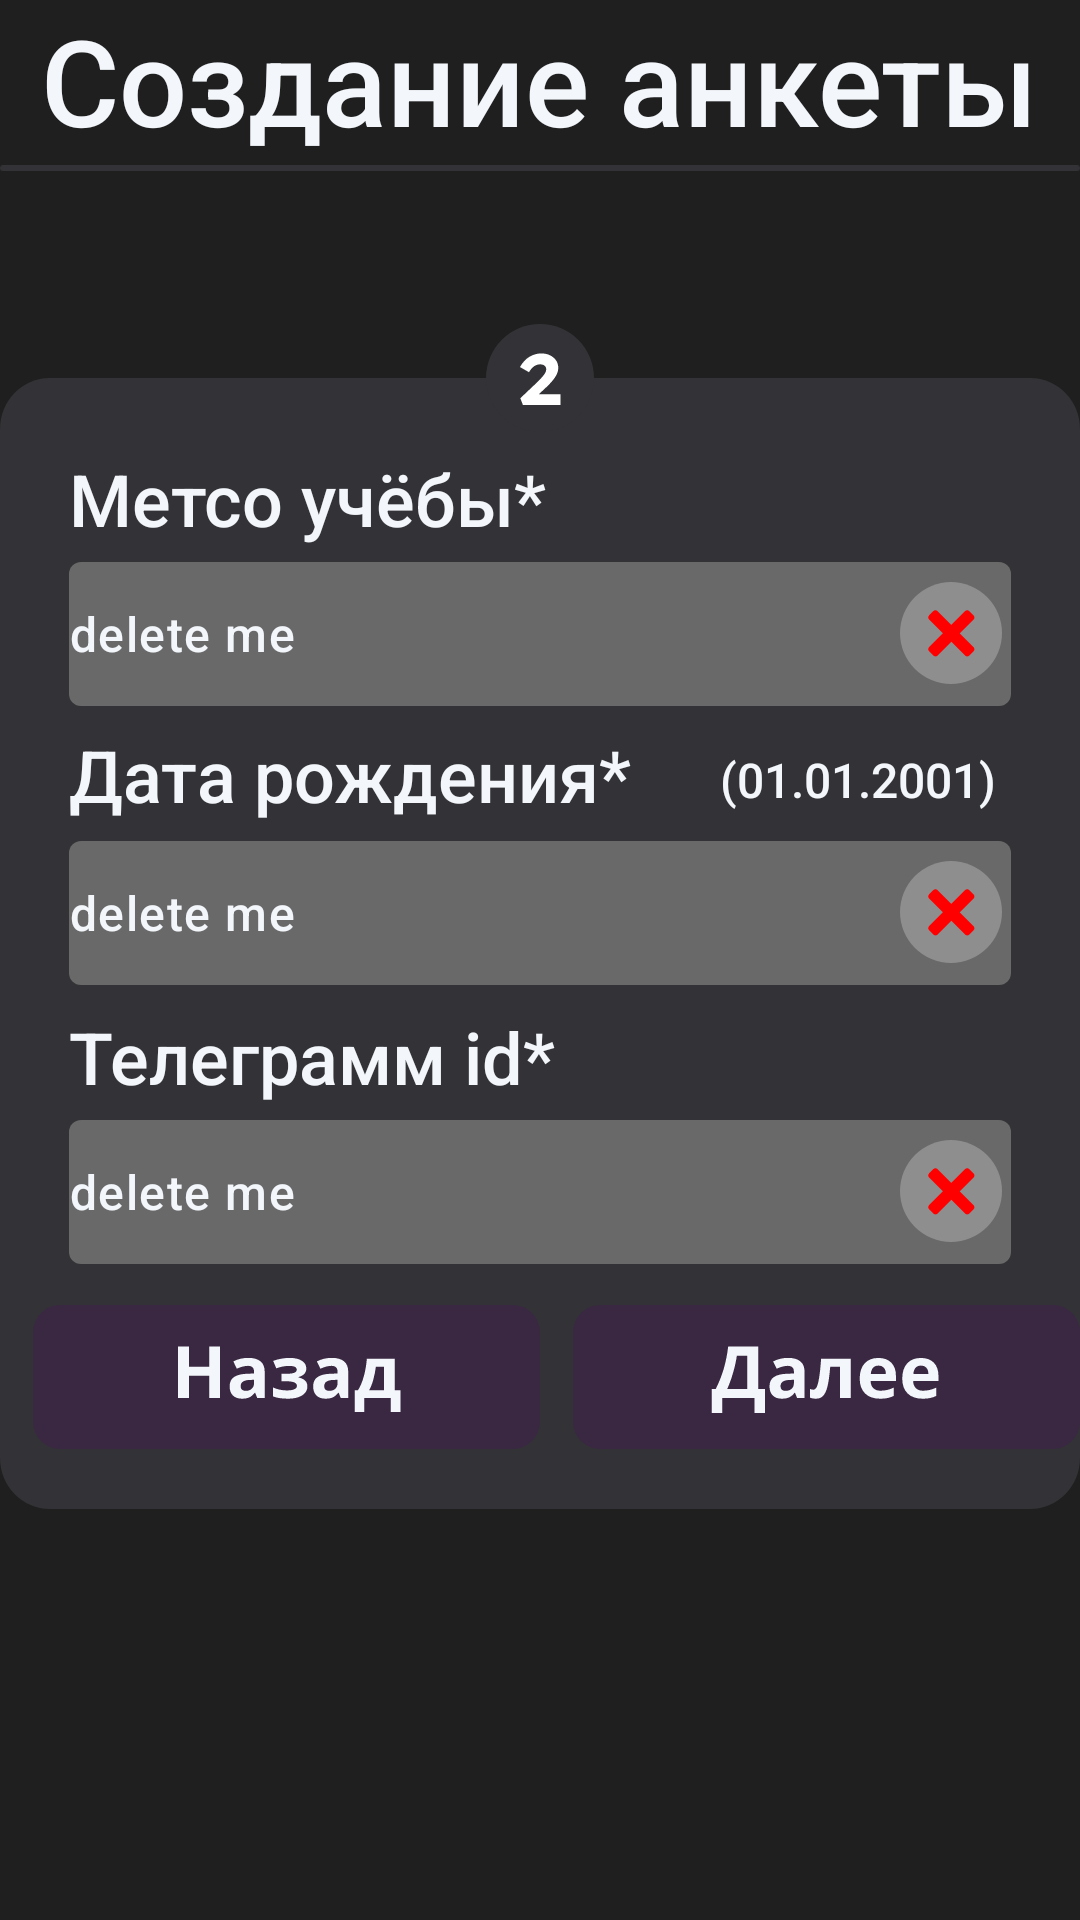

Named icons in this screenshot (1080 x 1920) and their centers, (x=x, y=y):
wronglineimage: (x=951, y=633), (x=951, y=912), (x=951, y=1191)
